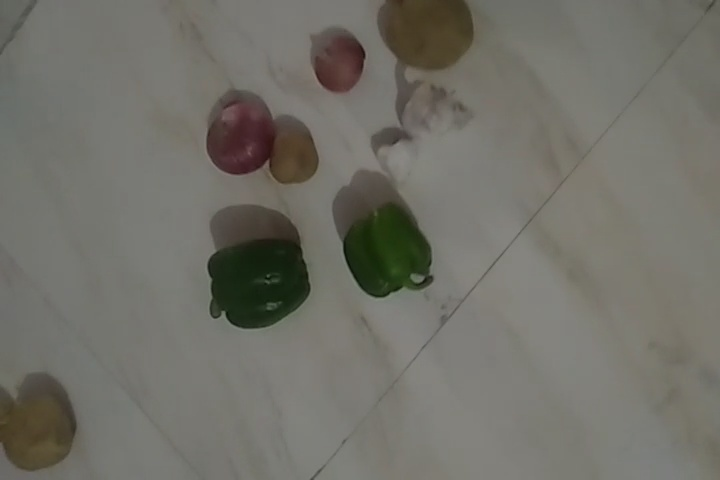capsicum: (337, 205, 439, 298), (206, 246, 315, 323)
onion: (206, 98, 265, 171), (398, 85, 466, 141), (316, 33, 361, 92), (380, 140, 421, 184)
potato: (374, 4, 475, 62), (7, 393, 73, 468), (273, 125, 322, 186)
